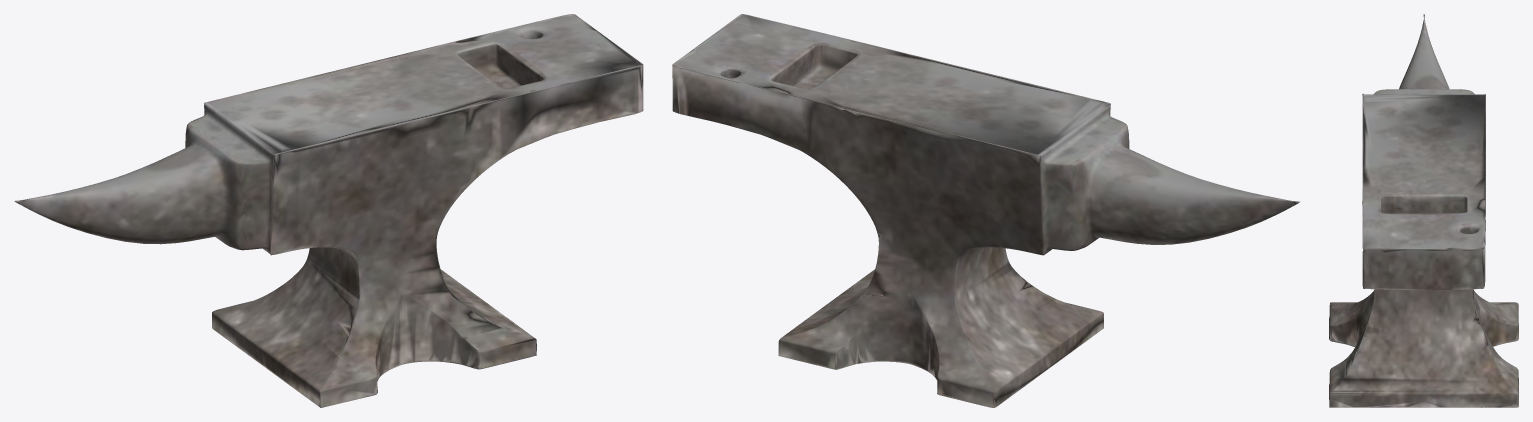
File: anvil.glb
3 views of the same model, side by side, from view 1: azimuth 30°, elevation 25°; view 2: azimuth 150°, elevation 25°; view 3: azimuth 270°, elevation 25° (orthographic). The views are drawn at different scales.
Visible parts, largest first — view 1: anvil.LOW POLY.001; view 2: anvil.LOW POLY.001; view 3: anvil.LOW POLY.001.
Boxes of the visible parts, x1=… form: anvil.LOW POLY.001: x1=14, y1=14, x2=643, y2=407; anvil.LOW POLY.001: x1=672, y1=14, x2=1300, y2=407; anvil.LOW POLY.001: x1=1329, y1=14, x2=1518, y2=407.
Size of the model in its own units: 1.64 by 0.6499 by 0.5251.
1 material, 1 textured.
